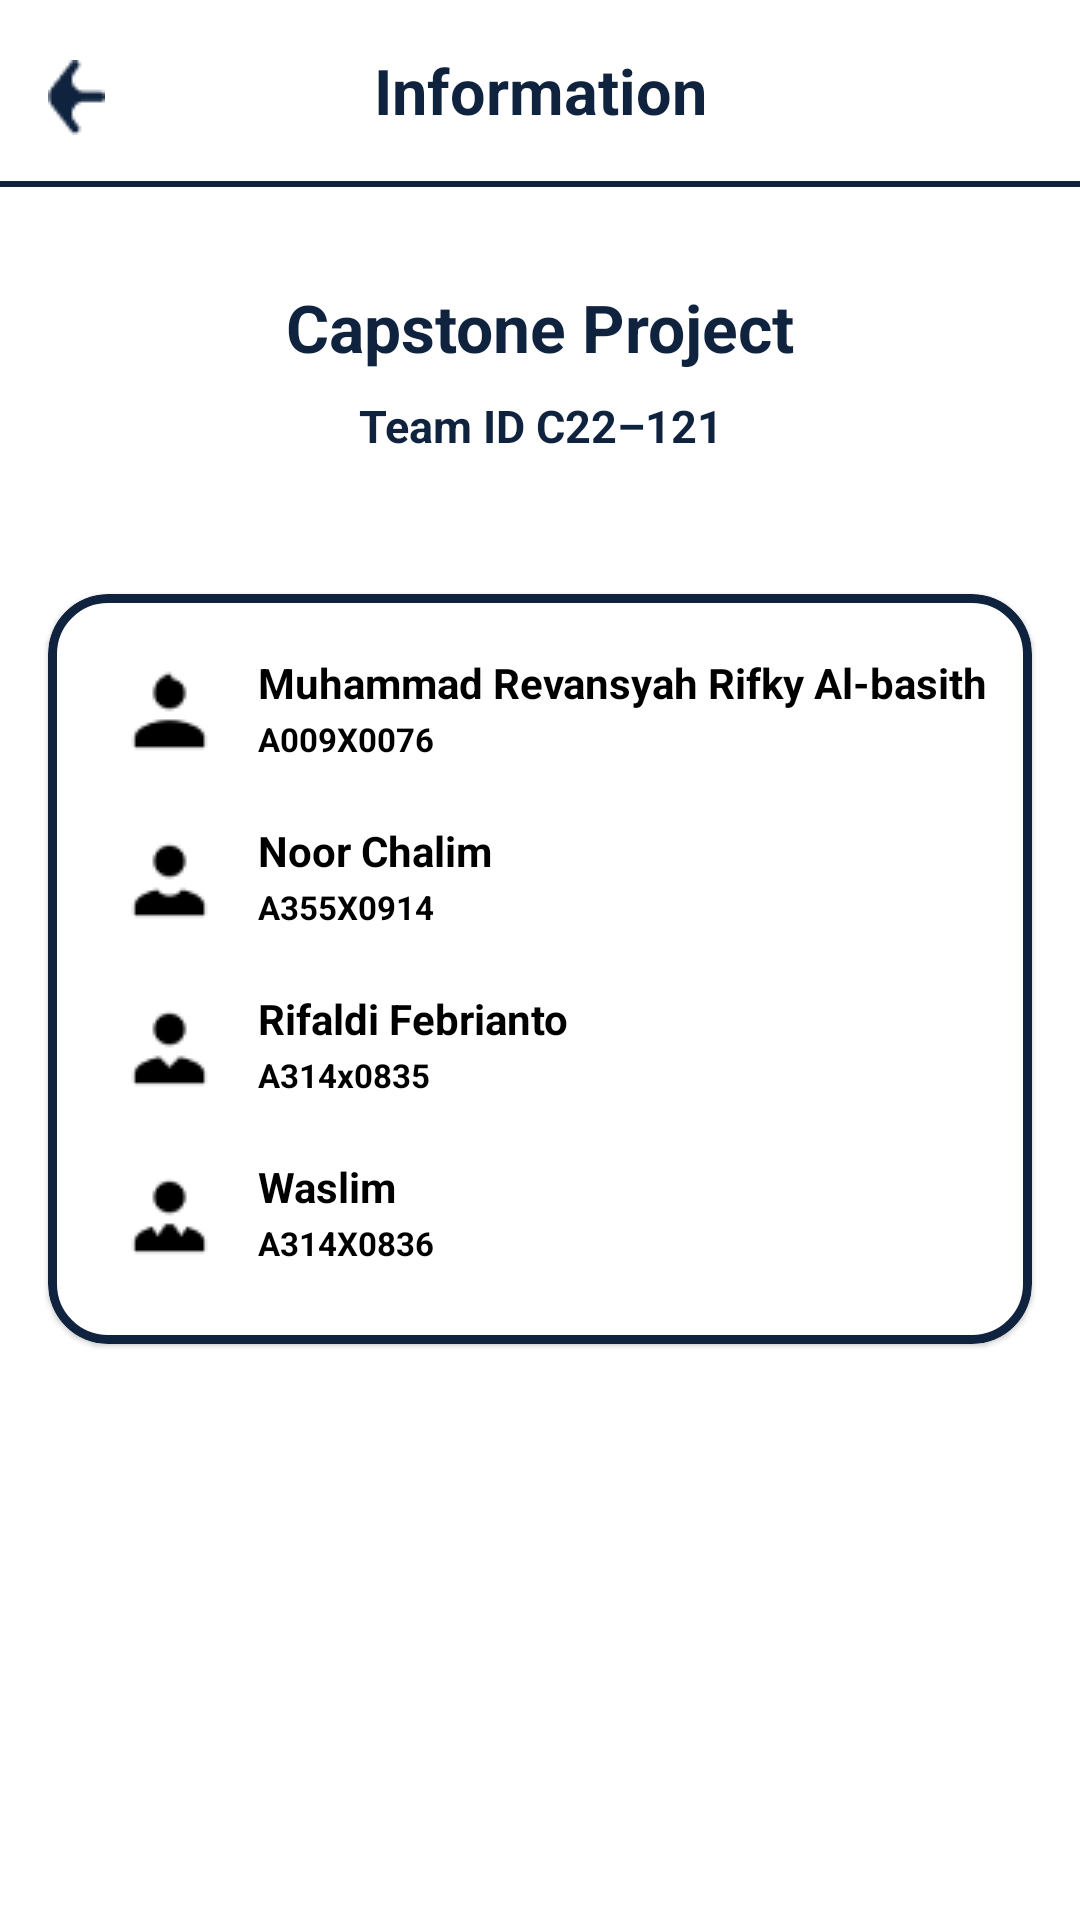

Icon bounding boxes for this 1080*1920 phone screenshot, format detection(x1, y1, x2, y2):
arrow back darkblue: detection(48, 60, 105, 135)
